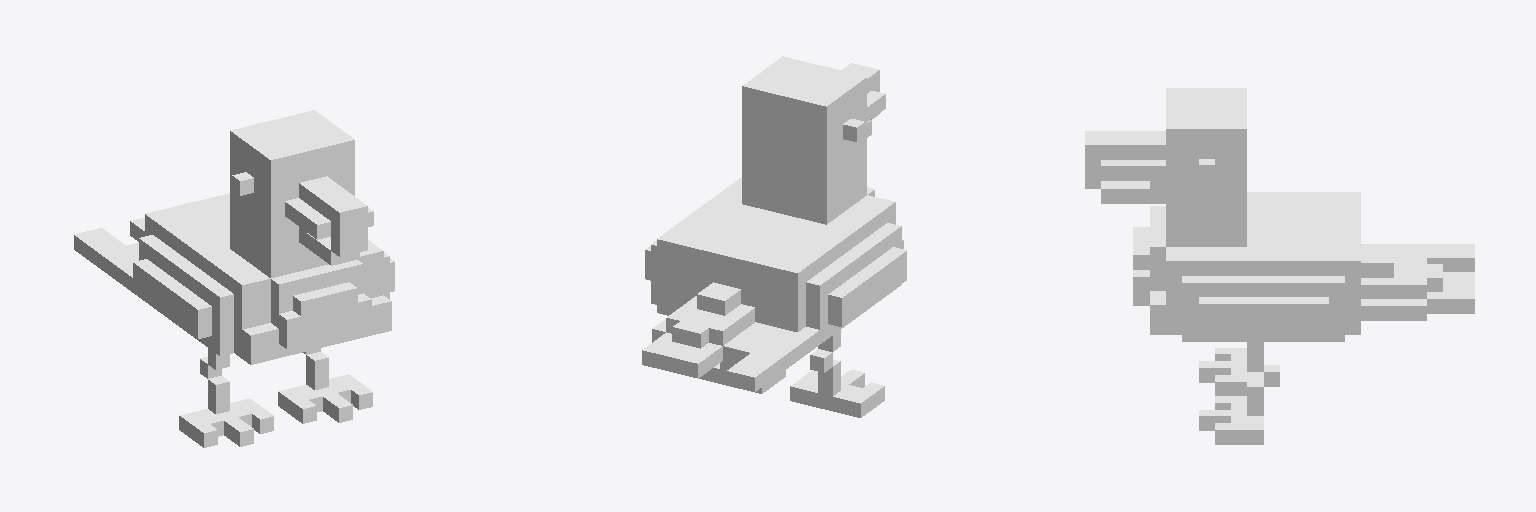
File: Seagull.obj
3 renders of one model, left to right at view 1: azimuth 30°, elevation 25°; view 2: azimuth 150°, elevation 25°; view 3: azimuth 270°, elevation 25°, orthographic.
Parts seen in each view (by area): view 1: object 1; view 2: object 1; view 3: object 1.
Part boxes in pixels (left/top/right/bottom): object 1: left=74, top=110, right=394, bottom=447; object 1: left=642, top=56, right=906, bottom=417; object 1: left=1085, top=88, right=1474, bottom=444.
Bounding box in the file's own units: 1.4 × 2 × 2.4.